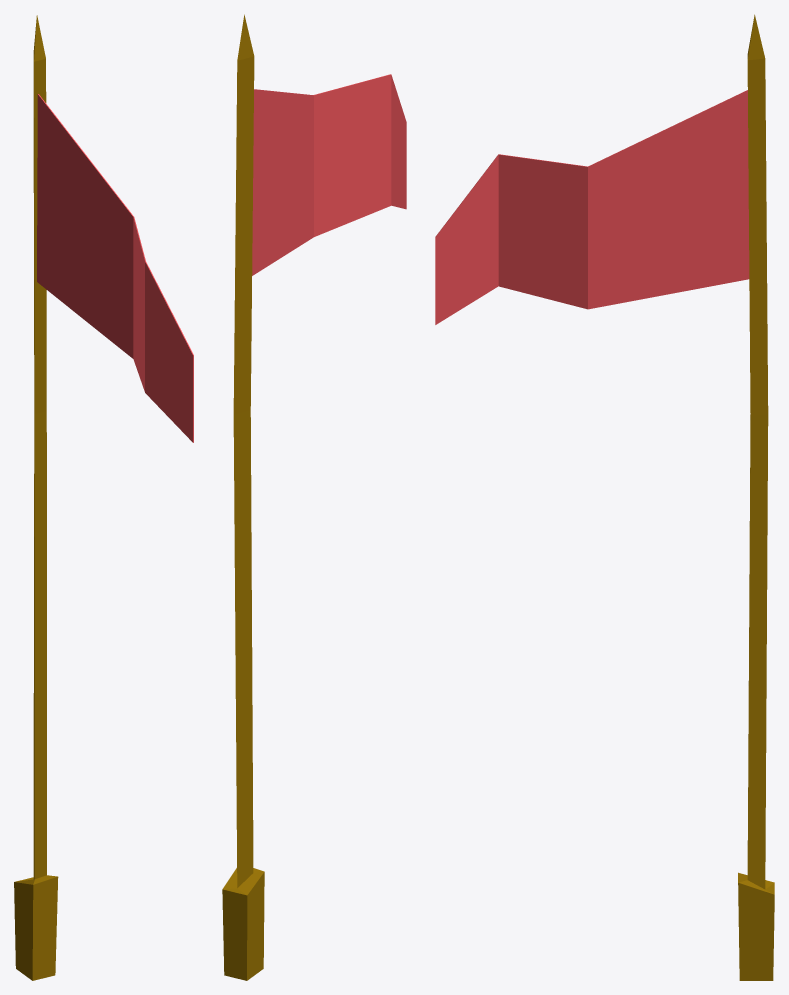
The model's file is flag.glb.
3 views of the same model, side by side, from view 1: azimuth 30°, elevation 25°; view 2: azimuth 150°, elevation 25°; view 3: azimuth 270°, elevation 25° (orthographic).
Visible parts, largest first — view 1: pCube1, gtmfc_flag; view 2: pCube1, gtmfc_flag; view 3: pCube1, gtmfc_flag.
Part boxes in pixels (<box>): pCube1: <box>37,94,193,442</box>; gtmfc_flag: <box>14,15,58,980</box>; pCube1: <box>252,74,406,275</box>; gtmfc_flag: <box>222,14,264,980</box>; pCube1: <box>435,90,749,324</box>; gtmfc_flag: <box>738,14,774,980</box>.
Size of the model in its own units: 0.0017 by 0.0463 by 0.0148.
